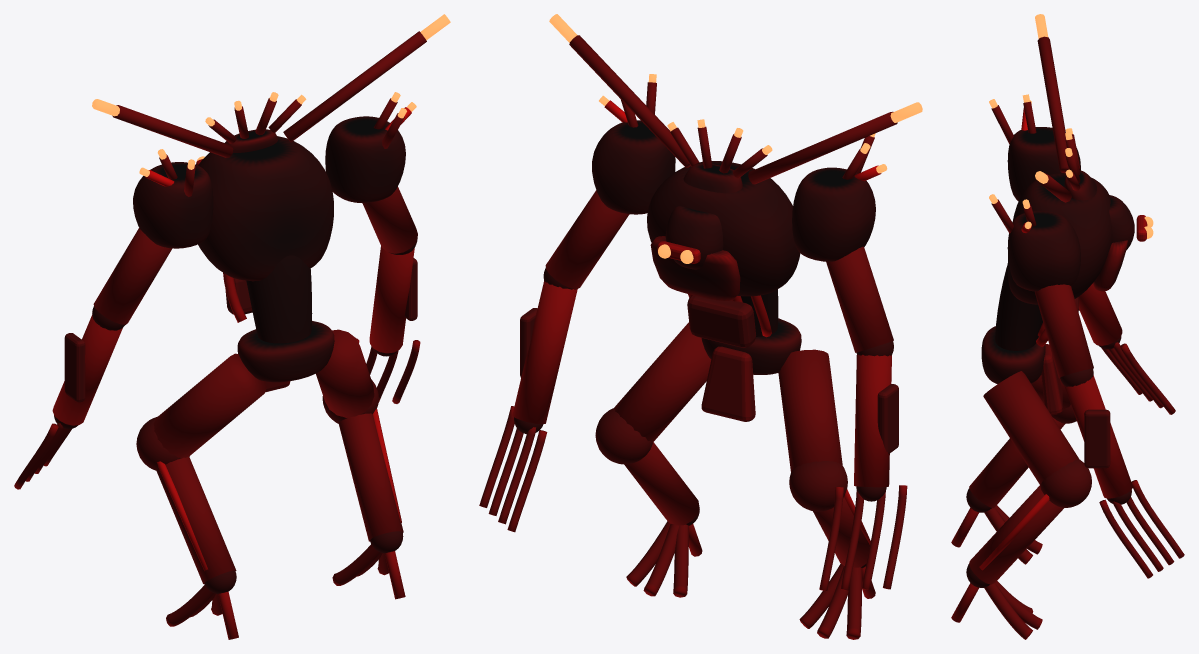
Rendered from mf_goblin.glb.
3 renders of one model, left to right at view 1: azimuth 30°, elevation 25°; view 2: azimuth 150°, elevation 25°; view 3: azimuth 270°, elevation 25°, orthographic. The views are drawn at different scales.
Visible parts, largest first — view 1: chest, thigh_l, pad_r, pad_l, spine_core, shin_r, shin_l, hips, upper_l, thigh_r, fore_r, fore_l (+10 smaller); view 2: chest, pad_l, thigh_l, pad_r, thigh_r, fore_r, fore_l, upper_l, upper_r, pelvis_plate, chest_plate, shin_r (+26 smaller); view 3: thigh_r, chest, pad_r, upper_r, shin_r, pad_l, fore_r, spine_core, shin_l, hips, fore_l, knee_r (+21 smaller).
Boxes of the visible parts, x1,y1,x2,y2 form: chest: [198, 136, 333, 281]; thigh_l: [153, 353, 266, 457]; pad_r: [325, 116, 405, 203]; pad_l: [133, 162, 213, 248]; spine_core: [246, 255, 312, 343]; shin_r: [339, 413, 403, 541]; shin_l: [156, 456, 236, 583]; hips: [237, 321, 334, 382]; upper_l: [93, 228, 172, 324]; thigh_r: [316, 329, 374, 417]; fore_r: [369, 246, 414, 353]; fore_l: [52, 315, 122, 425]; chest: [647, 161, 800, 296]; pad_l: [792, 167, 875, 261]; thigh_l: [778, 349, 842, 472]; pad_r: [592, 120, 675, 214]; thigh_r: [613, 322, 711, 442]; fore_r: [512, 281, 577, 424]; fore_l: [854, 354, 891, 487]; upper_l: [826, 246, 893, 352]; upper_r: [545, 190, 629, 289]; pelvis_plate: [701, 346, 755, 421]; chest_plate: [650, 236, 740, 300]; shin_r: [624, 442, 699, 525]; thigh_r: [983, 371, 1078, 484]; chest: [1007, 173, 1112, 304]; pad_r: [1007, 211, 1080, 291]; upper_r: [1035, 284, 1093, 377]; shin_r: [969, 485, 1063, 584]; pad_l: [1007, 127, 1080, 201]; fore_r: [1064, 375, 1132, 498]; spine_core: [995, 265, 1042, 350]; shin_l: [969, 418, 1065, 508]; hips: [981, 326, 1045, 384]; fore_l: [1078, 283, 1122, 345]; knee_r: [1040, 459, 1091, 507].
Bounding box in the file's own units: 0.7956 × 1.05 × 0.4457.
